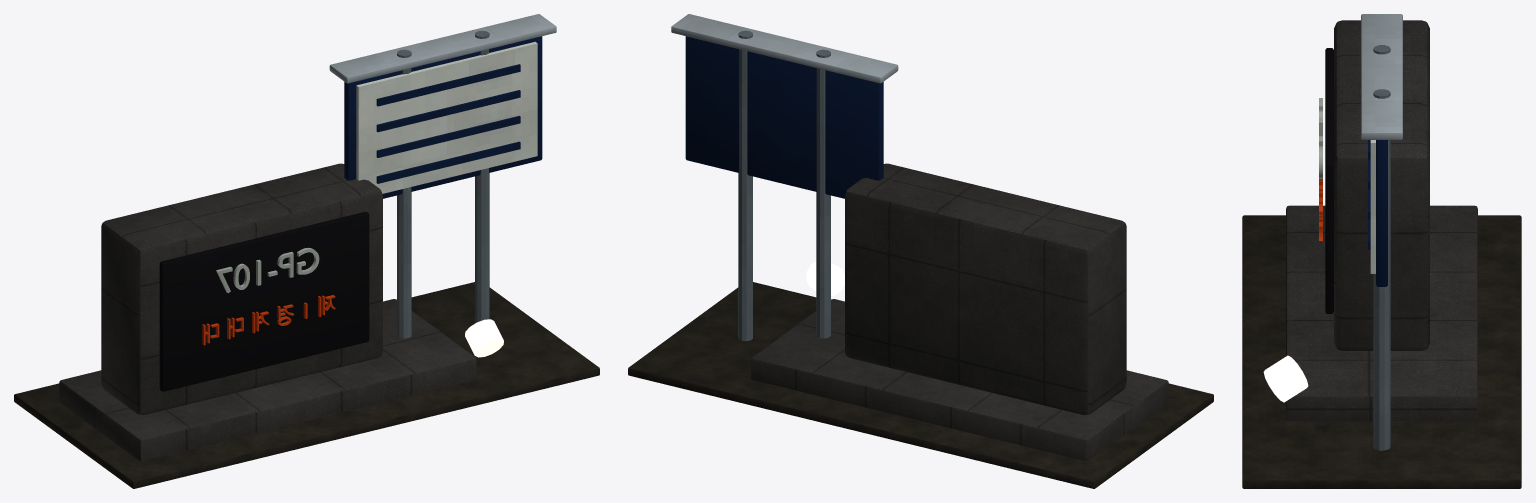
The model's file is fac_sitesign.glb.
3 views of the same model, side by side, from view 1: azimuth 30°, elevation 25°; view 2: azimuth 150°, elevation 25°; view 3: azimuth 270°, elevation 25° (orthographic). The views are drawn at different scales.
Parts seen in each view (by area): view 1: FAC_SITESIGN; view 2: FAC_SITESIGN; view 3: FAC_SITESIGN.
Boxes of the visible parts, x1,y1,x2,y2 form: FAC_SITESIGN: (14, 14, 599, 488); FAC_SITESIGN: (628, 14, 1213, 488); FAC_SITESIGN: (1242, 14, 1521, 488).
Bounding box in the file's own units: 3.66 × 2.3 × 1.6.
10 materials, 9 textured.
